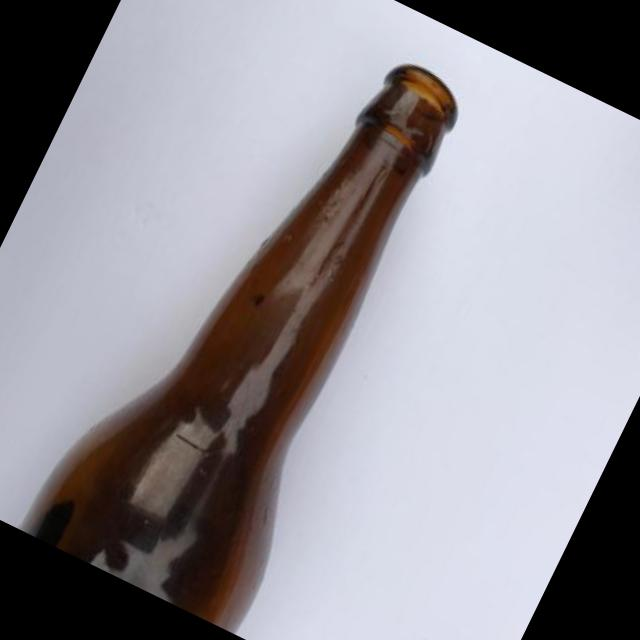BotolKaca: (15, 0, 499, 637)
